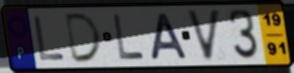3: (227, 8, 261, 62)
A: (148, 12, 191, 62)
D: (64, 11, 105, 65)
L: (111, 13, 147, 61), (31, 14, 67, 62)
V: (184, 8, 223, 63)
